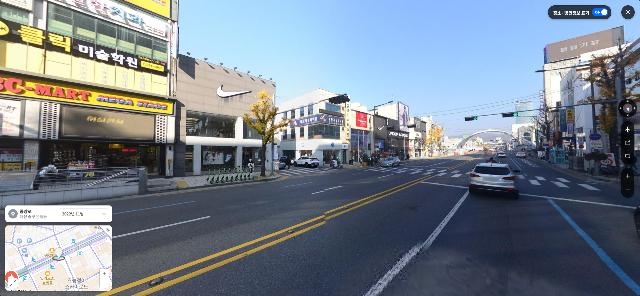ginkgo: (568, 39, 639, 176), (242, 91, 292, 177), (429, 127, 444, 157)
other: (535, 116, 554, 160)
